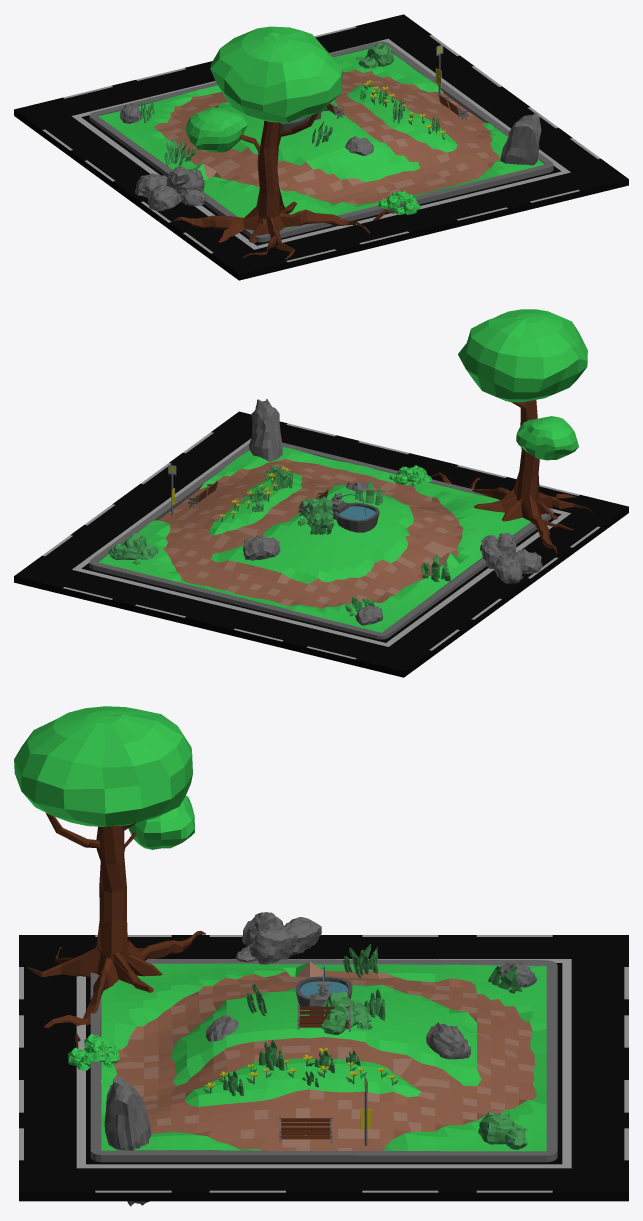
The model's file is ParkTileFertig.glb.
The picture shows the model from 3 angles, top to bottom: view 1: azimuth 30°, elevation 25°; view 2: azimuth 150°, elevation 25°; view 3: azimuth 270°, elevation 25°; orthographic projection. The views are drawn at different scales.
Parts seen in each view (by area): view 1: SideWalkPark-col, SreetPark-col, KroneOben.001, StammePark-col, Krone MItte.001, Rock9-col, Rock4-col, BuschBlau2-col, Rock5-col, Rock7-col, Rock3-col; view 2: SideWalkPark-col, SreetPark-col, KroneOben.001, StammePark-col, Krone MItte.001, Rock9-col, Brunnen-col, BuschBlau2-col, BuschBlau1-col, Rock1-col, Rock5-col, Rock4-col; view 3: SideWalkPark-col, SreetPark-col, KroneOben.001, StammePark-col, Rock9-col, Krone MItte.001, BuschBlau1-col, Rock6-col, Brunnen-col, BuschBlau2-col, ParkBank.2-col, Rock1-col (+2 smaller).
Part boxes in pixels (bbox=[...]): SideWalkPark-col: bbox=[89, 41, 553, 242]; SreetPark-col: bbox=[14, 14, 628, 280]; KroneOben.001: bbox=[210, 26, 342, 122]; StammePark-col: bbox=[173, 113, 394, 259]; Krone MItte.001: bbox=[185, 107, 247, 152]; Rock9-col: bbox=[500, 112, 541, 165]; Rock4-col: bbox=[148, 184, 181, 211]; BuschBlau2-col: bbox=[356, 42, 393, 68]; Rock5-col: bbox=[135, 173, 167, 197]; Rock7-col: bbox=[166, 166, 189, 193]; Rock3-col: bbox=[345, 136, 373, 155]; SideWalkPark-col: bbox=[89, 442, 553, 639]; SreetPark-col: bbox=[14, 411, 628, 677]; KroneOben.001: bbox=[458, 309, 587, 402]; StammePark-col: bbox=[430, 400, 593, 554]; Krone MItte.001: bbox=[516, 416, 578, 460]; Rock9-col: bbox=[249, 399, 282, 461]; Brunnen-col: bbox=[330, 492, 379, 532]; BuschBlau2-col: bbox=[108, 533, 158, 564]; BuschBlau1-col: bbox=[298, 496, 334, 527]; Rock1-col: bbox=[243, 534, 280, 560]; Rock5-col: bbox=[493, 554, 523, 583]; Rock4-col: bbox=[511, 549, 542, 574]; SideWalkPark-col: bbox=[90, 959, 557, 1162]; SreetPark-col: bbox=[19, 935, 628, 1201]; KroneOben.001: bbox=[14, 706, 192, 826]; StammePark-col: bbox=[27, 813, 205, 1048]; Rock9-col: bbox=[104, 1076, 151, 1206]; Krone MItte.001: bbox=[128, 796, 194, 849]; BuschBlau1-col: bbox=[320, 991, 372, 1034]; Rock6-col: bbox=[249, 927, 297, 964]; Brunnen-col: bbox=[295, 965, 352, 1015]; BuschBlau2-col: bbox=[478, 1111, 527, 1149]; ParkBank.2-col: bbox=[279, 1116, 332, 1143]; Rock1-col: bbox=[426, 1022, 470, 1059].
Bounding box in the file's own units: 128 × 75.48 × 129.
Materials: 1 (1 with a texture image).
